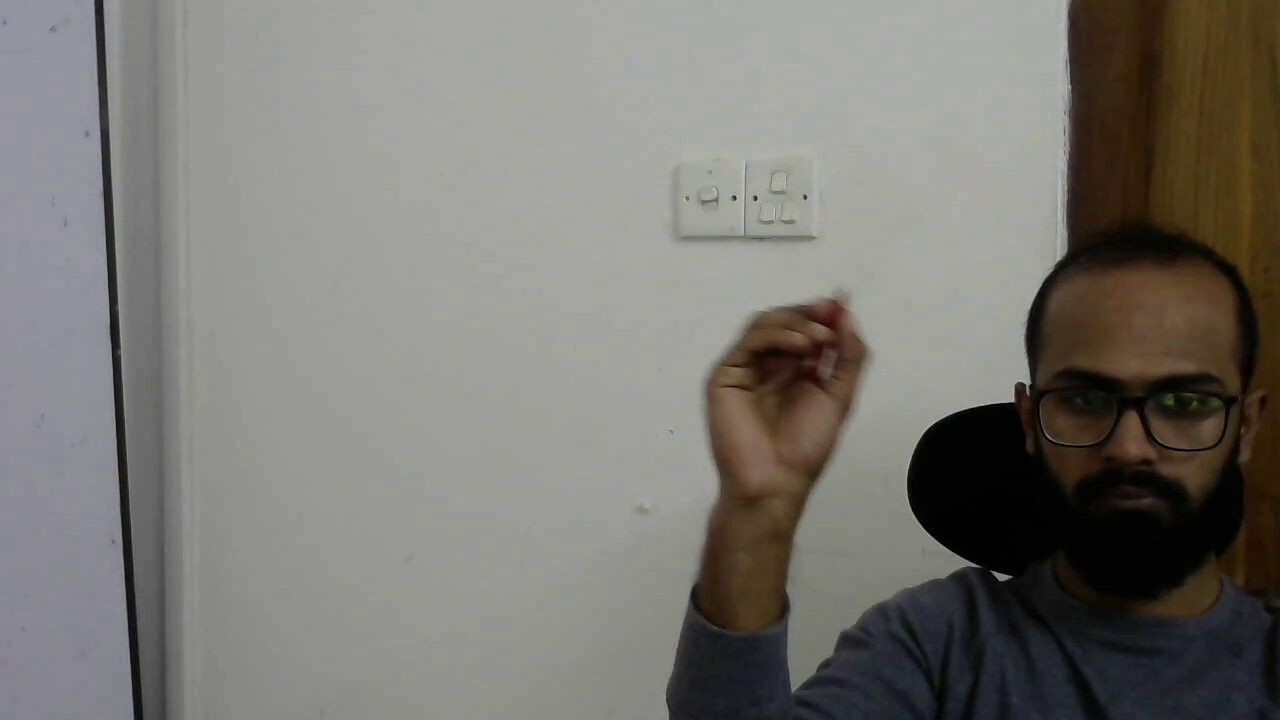pointer: (724, 286, 871, 435)
